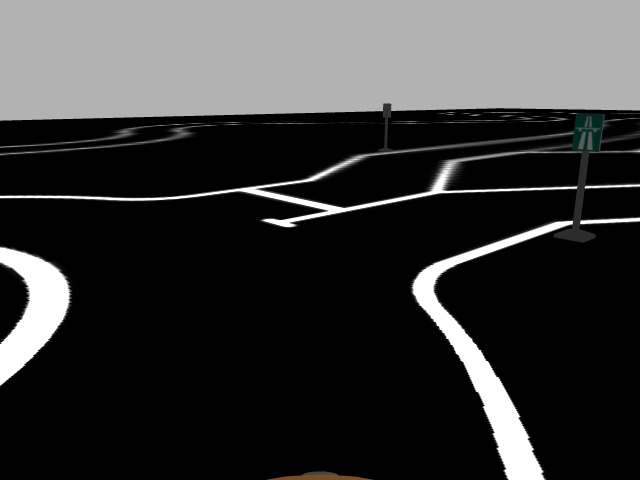enter_highway: (570, 113, 606, 151)
